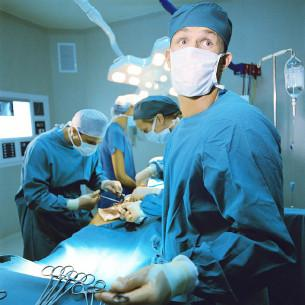OK: (170, 29, 233, 92), (138, 120, 175, 146), (75, 131, 100, 160)
